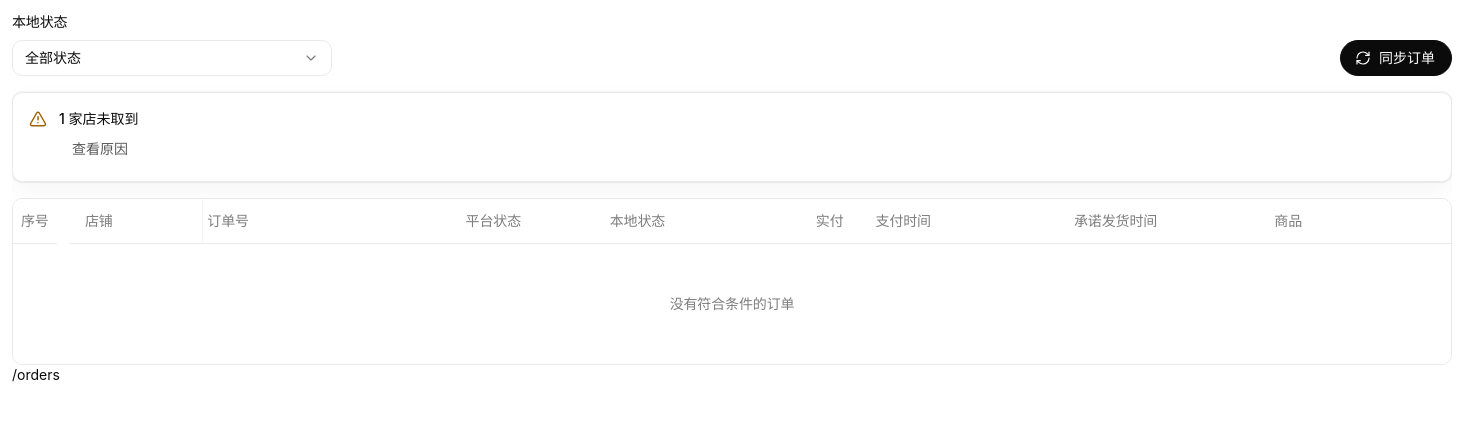
Test case: 订单列表页 › 未取到的店已在顶部横条（登录 / 出口 / 风控）时不再提示；其他原因的店照常提示
Check: the text "1 家店未取到" is shown, box left=59, top=110, right=138, bottom=127
Click the button "查看原因".
click(100, 149)  # box left=59, top=133, right=141, bottom=165
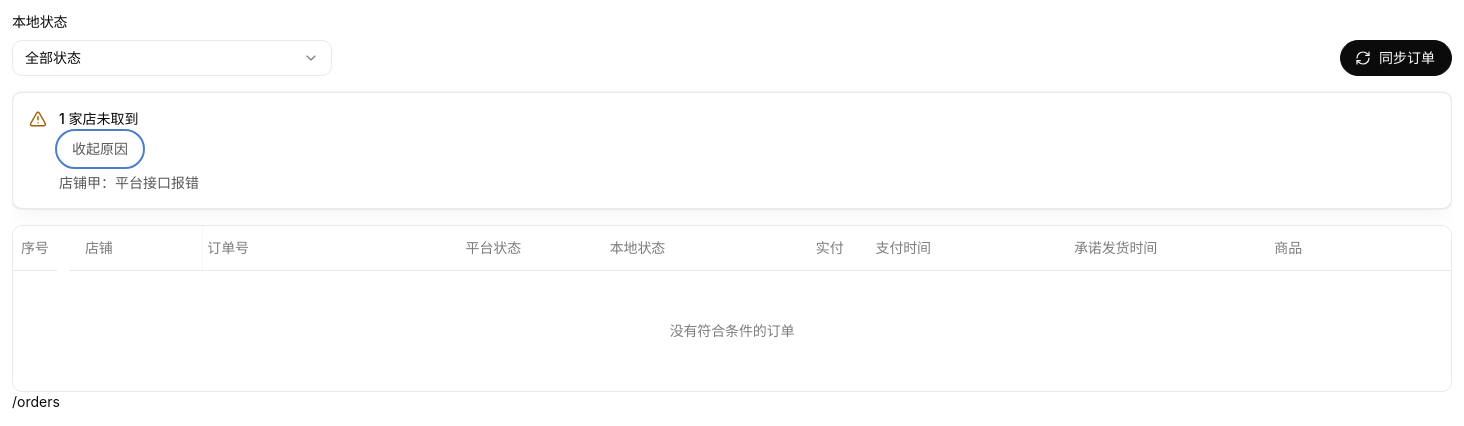
Check: the list item "店铺甲：平台接口报错" is shown, box left=59, top=174, right=199, bottom=191
